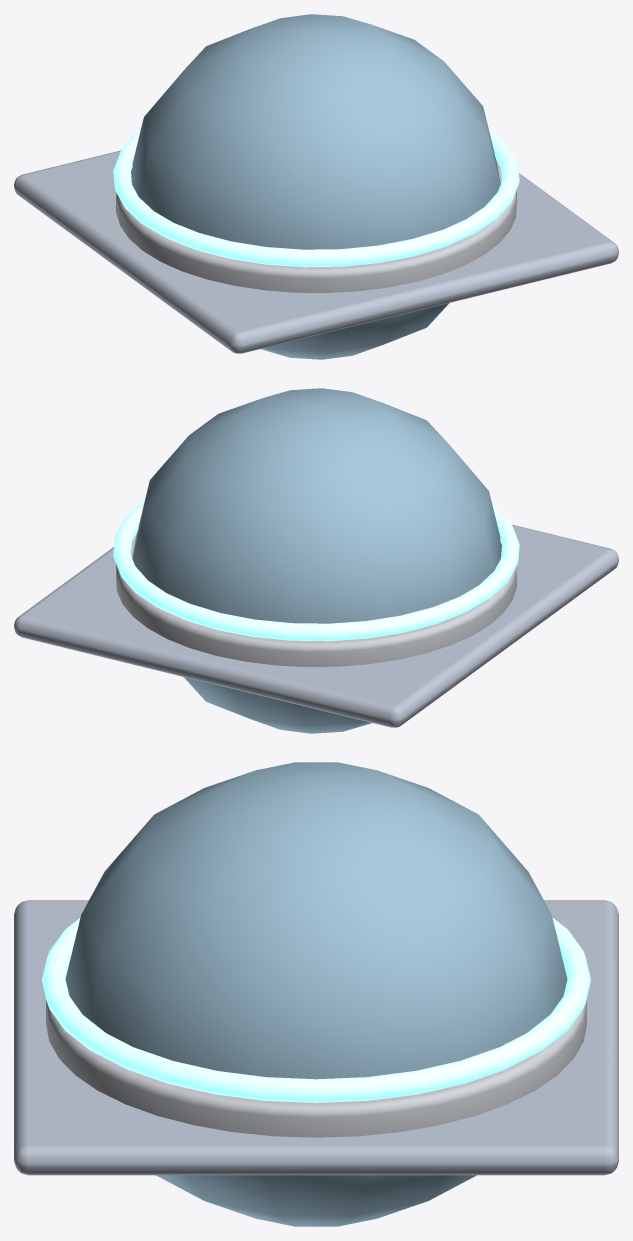
3 renders of one model, top to bottom at view 1: azimuth 30°, elevation 25°; view 2: azimuth 150°, elevation 25°; view 3: azimuth 270°, elevation 25°, orthographic. The views are drawn at different scales.
Visible parts, largest first — view 1: Cube; view 2: Cube; view 3: Cube.
Boxes of the visible parts, x1=… form: Cube: x1=14, y1=14, x2=618, y2=359; Cube: x1=14, y1=388, x2=618, y2=733; Cube: x1=14, y1=762, x2=618, y2=1226.
Size of the model in its own units: 0.76 by 0.576 by 0.76.
